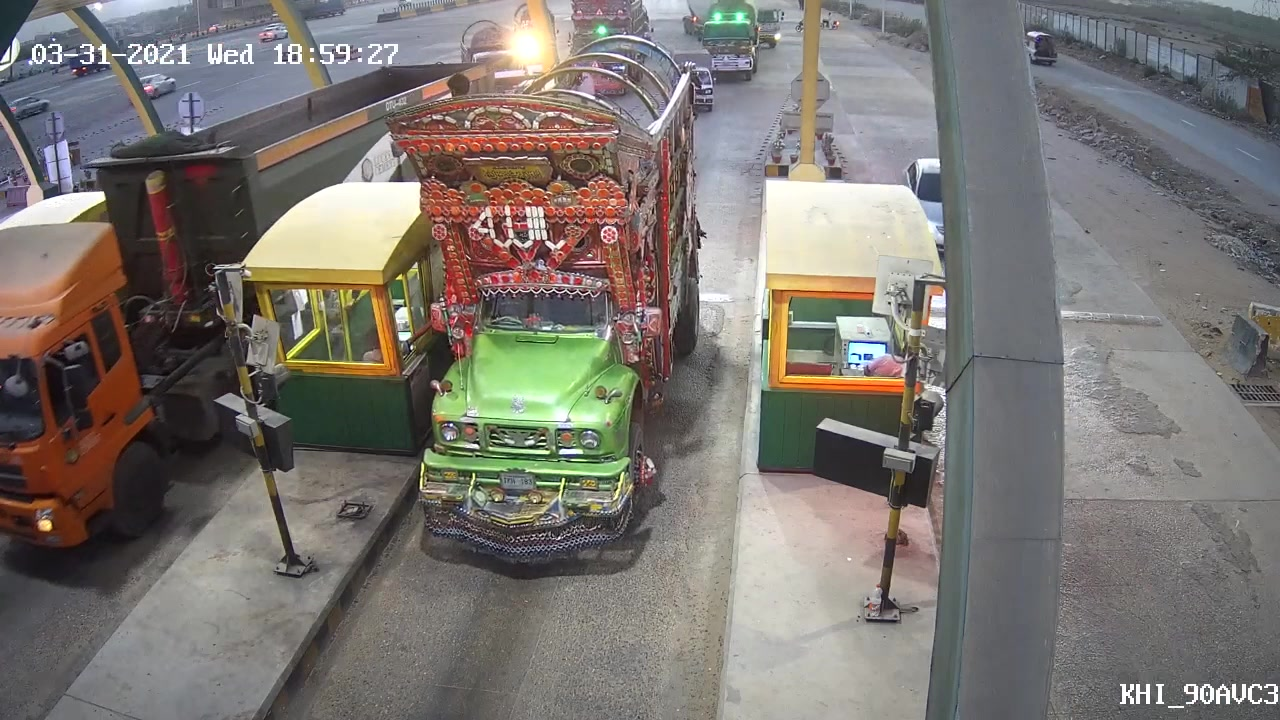F5: (381, 43, 701, 565)
